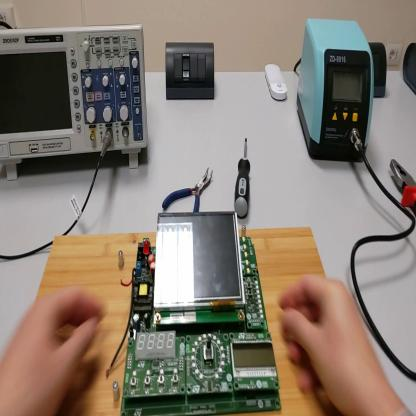hand: (279, 272, 384, 416), (2, 285, 107, 416)
low voltage board: (108, 211, 283, 416)
oscilloscope: (2, 25, 150, 183)
pliers: (164, 166, 216, 211), (389, 157, 416, 219)
screwdriver-: (237, 138, 252, 219)
socket: (369, 41, 388, 100), (403, 39, 416, 94)
welder station: (297, 19, 375, 161)
working area: (23, 228, 328, 414)
